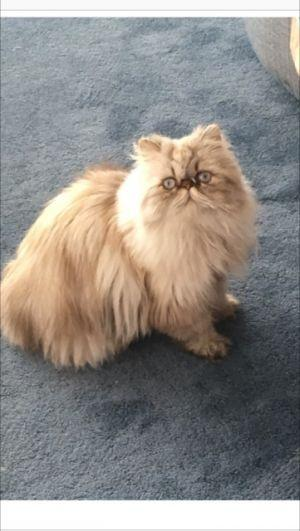persian: (122, 113, 260, 244)
